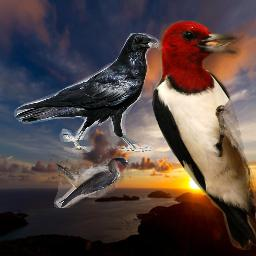Crow: (14, 33, 163, 153)
Swallow: (54, 157, 132, 208)
Woodpecker: (151, 20, 256, 250)
